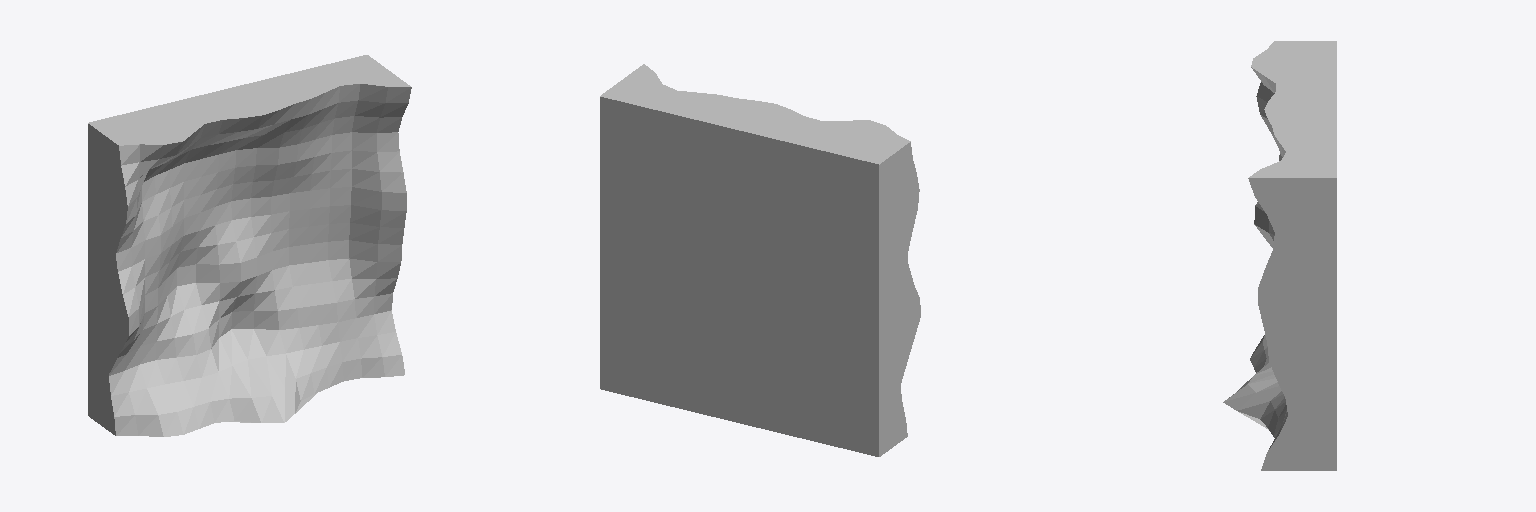
The model's file is land.obj.
3 renders of one model, left to right at view 1: azimuth 30°, elevation 25°; view 2: azimuth 150°, elevation 25°; view 3: azimuth 270°, elevation 25°, orthographic.
Visible parts, largest first — view 1: Figure 1; view 2: Figure 1; view 3: Figure 1.
Part boxes in pixels (bbox=[...]): Figure 1: bbox=[88, 55, 411, 436]; Figure 1: bbox=[600, 64, 920, 456]; Figure 1: bbox=[1223, 41, 1336, 470].
Bounding box in the file's own units: 80 × 80 × 28.29.